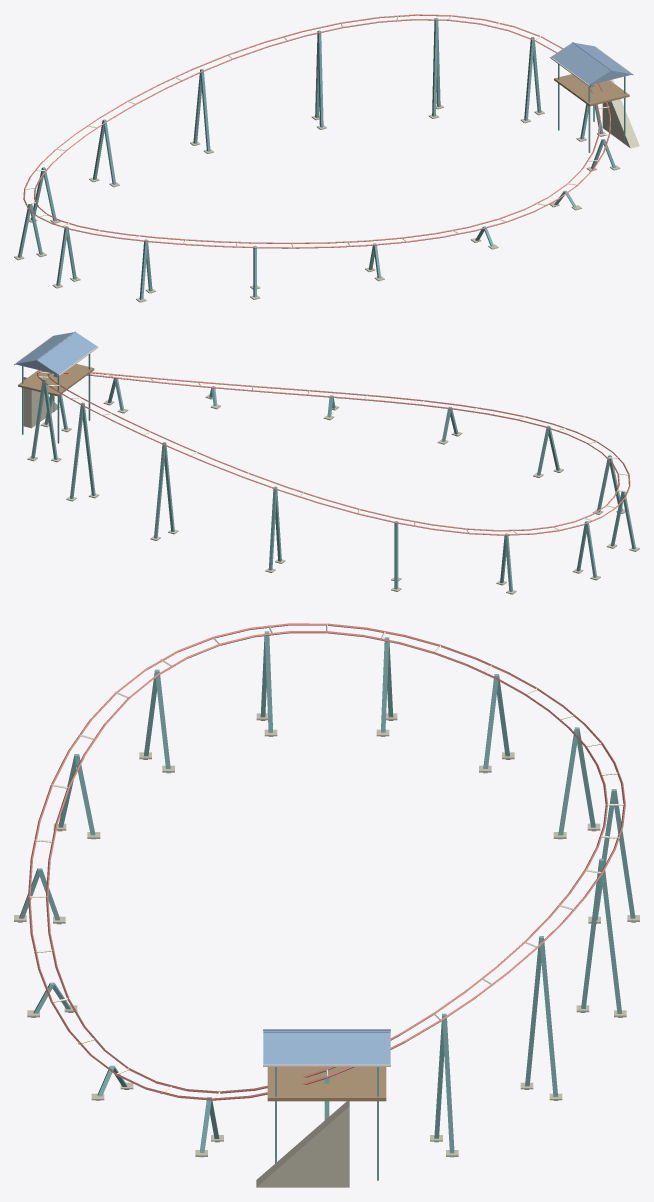
3 renders of one model, top to bottom at view 1: azimuth 30°, elevation 25°; view 2: azimuth 150°, elevation 25°; view 3: azimuth 270°, elevation 25°, orthographic. The views are drawn at different scales.
Bounding box in the file's own units: 132 × 21.11 × 73.7.
